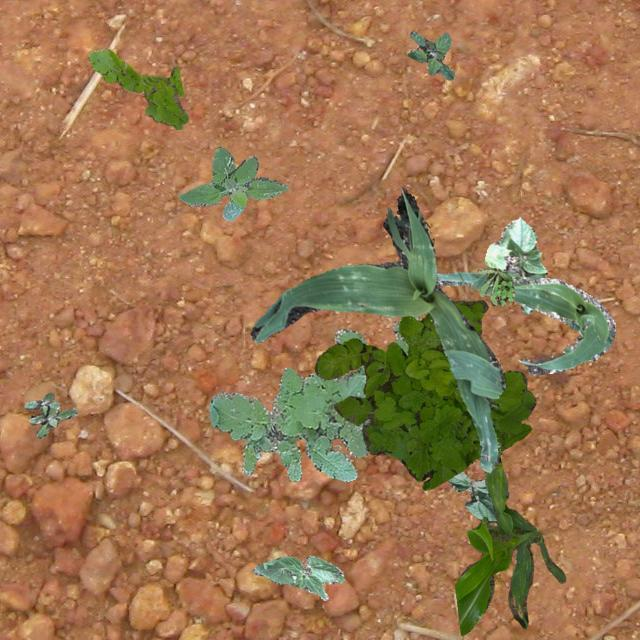crop: (250, 190, 503, 472), (454, 450, 564, 634), (436, 271, 614, 374), (484, 215, 546, 312), (252, 554, 344, 600), (447, 471, 508, 522)
weed: (314, 300, 534, 490), (208, 322, 408, 481), (178, 146, 288, 220), (88, 48, 188, 128), (24, 390, 76, 438), (406, 31, 454, 78), (476, 268, 514, 306)
